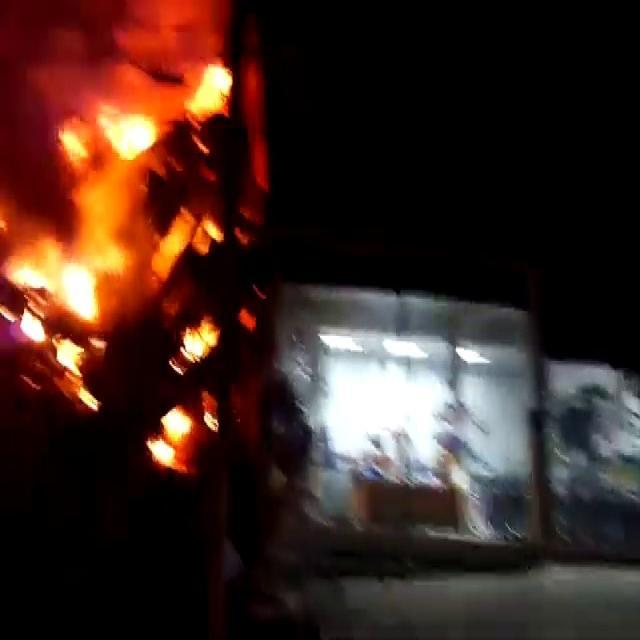Fire: (116, 66, 246, 468), (0, 101, 114, 378)
Smoke: (119, 0, 228, 53), (22, 18, 104, 88)
